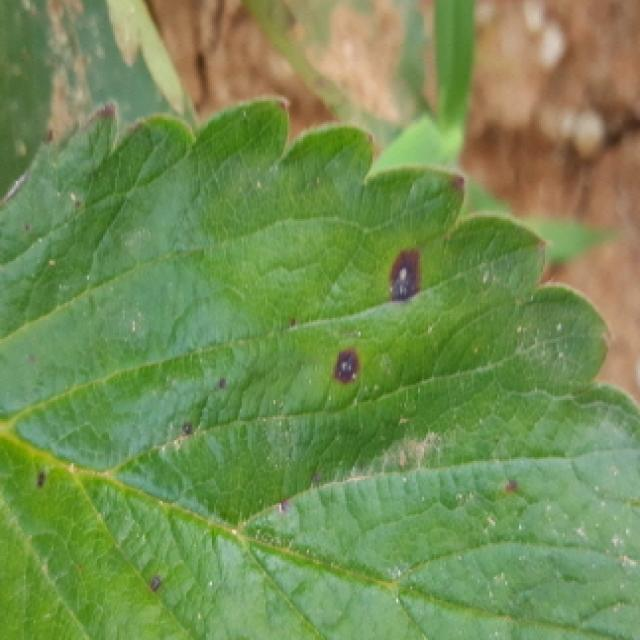Leaf Spot: (0, 95, 640, 640)
